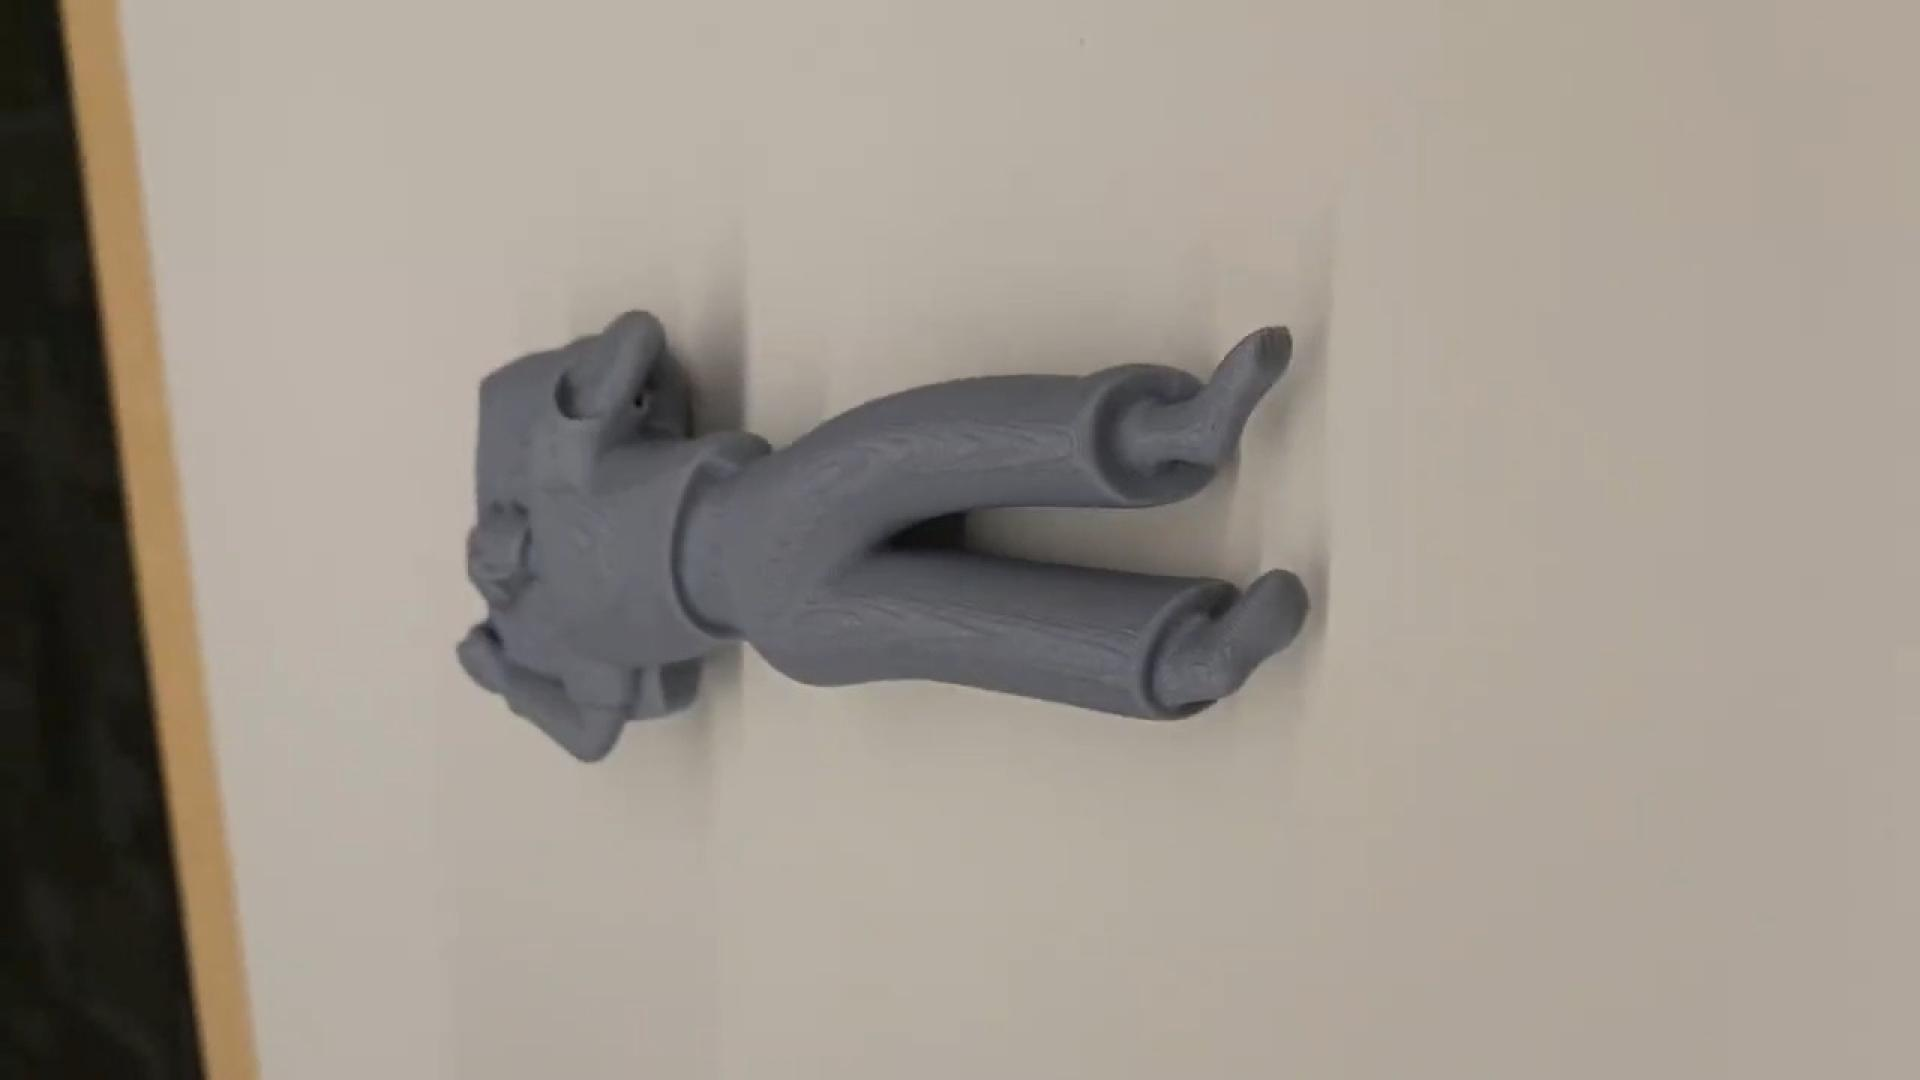Bad-style: (450, 310, 1316, 770)
